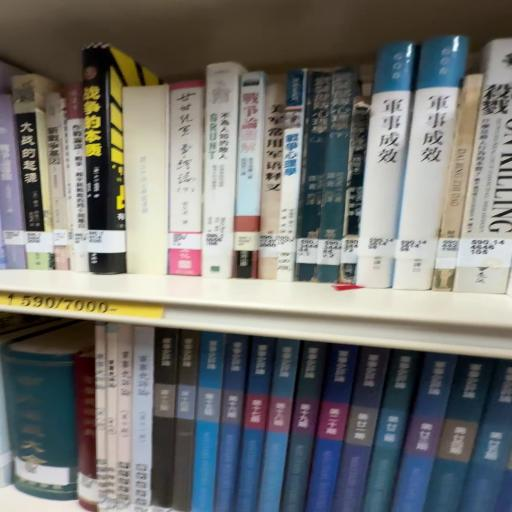backward: (121, 80, 168, 274)
book: (297, 62, 361, 281), (204, 59, 244, 278), (170, 79, 208, 284)
